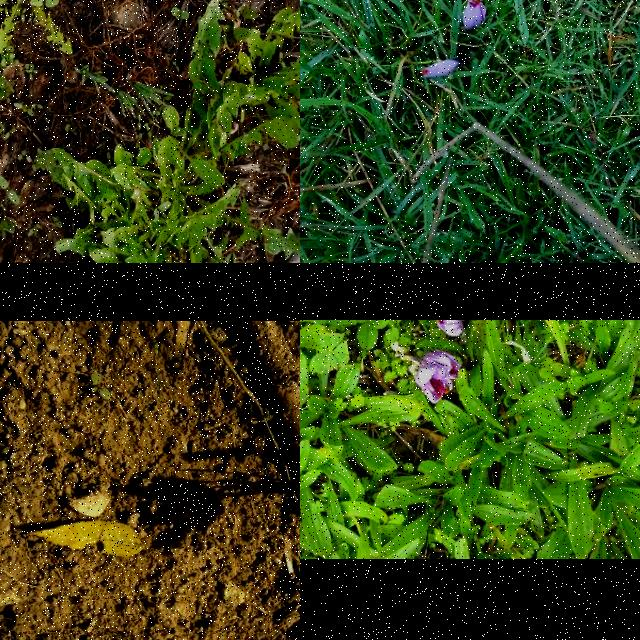flower: (462, 0, 487, 33), (422, 58, 462, 78), (436, 320, 464, 339)
overlap: (413, 354, 463, 406)
